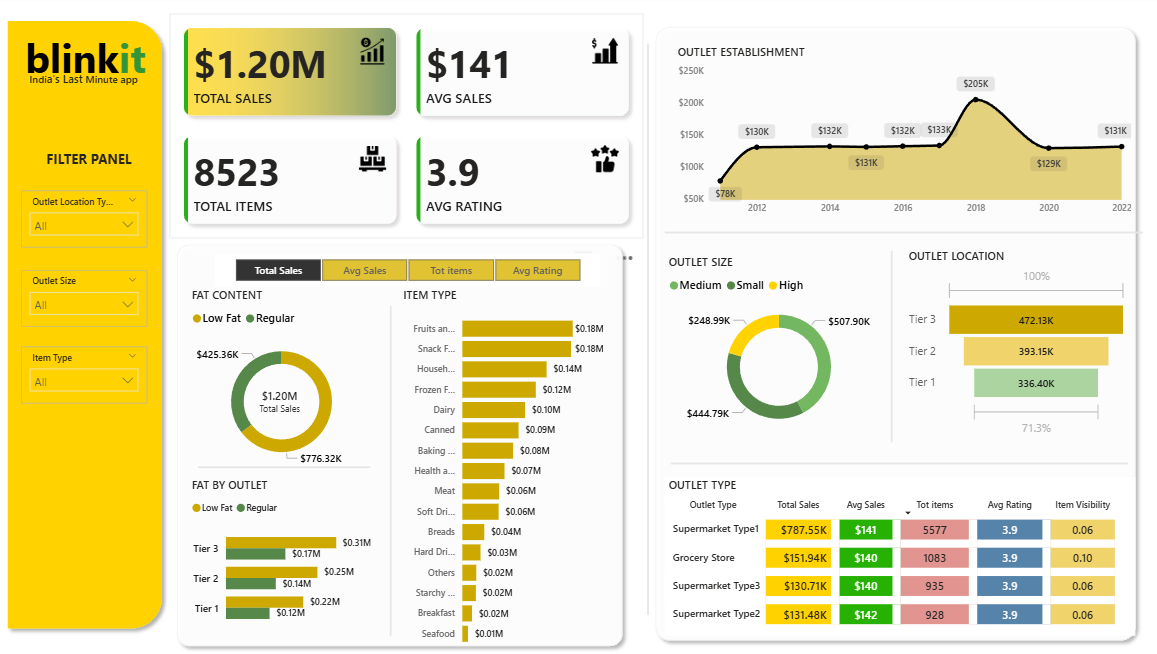

The page's visual inventory and layout, read from the dashboard file:
{"tool":"powerbi","page":{"name":"Page 1","canvas":[1400,800],"ordinal":0},"visuals":[{"type":"shape","box":[0,23.5,204.2,750],"z":0},{"type":"textbox","box":[25.3,38,166.3,99.4],"z":1000},{"type":"textbox","box":[5.7,86.8,190.6,30.2],"z":2000},{"type":"cardVisual","fields":{"Data":["BlinkIT Grocery Data.Total Sales","BlinkIT Grocery Data.Avg Sales","BlinkIT Grocery Data.Tot items","BlinkIT Grocery Data.Avg Rating"]},"box":[203.9,23.5,570.6,270.6],"z":3000},{"type":"shape","box":[203.8,292.5,554.7,501.9],"z":4000},{"type":"donutChart","title":"FAT CONTENT","fields":{"Y":["BlinkIT Grocery Data.Total Sales"],"Category":["BlinkIT Grocery Data.Item Fat Content"]},"box":[225.9,352.4,225.9,229.5],"z":5000},{"type":"slicer","fields":{"Values":["metrices.metrices"]},"box":[258.4,312.7,464.5,39.8],"z":6000},{"type":"cardVisual","fields":{"Data":["BlinkIT Grocery Data.Total Sales"]},"box":[300,455.4,74.1,70.5],"z":7000},{"type":"clusteredBarChart","title":"FAT BY OUTLET","fields":{"Y":["BlinkIT Grocery Data.Total Sales"],"Category":["BlinkIT Grocery Data.Outlet Location Type"],"Series":["BlinkIT Grocery Data.Item Fat Content"]},"box":[225.9,581.9,225.9,191.6],"z":8000},{"type":"shape","box":[238.6,551.2,207.8,38],"z":9000},{"type":"shape","box":[451.8,375.9,38,397.6],"z":10000},{"type":"barChart","title":"ITEM TYPE","fields":{"Y":["BlinkIT Grocery Data.Total Sales"],"Category":["BlinkIT Grocery Data.Item Type"]},"box":[480.7,352.4,251.2,442.8],"z":11000},{"type":"shape","box":[780.7,30.7,596.4,757.2],"z":12000},{"type":"lineChart","title":"OUTLET ESTABLISHMENT","fields":{"Category":["BlinkIT Grocery Data.Outlet Establishment Year"],"Y":["BlinkIT Grocery Data.Total Sales"]},"box":[811.5,59.6,556.6,215.1],"z":13000},{"type":"shape","box":[800.6,280.1,576.5,14.5],"z":14000},{"type":"donutChart","title":"OUTLET SIZE","fields":{"Y":["BlinkIT Grocery Data.Total Sales"],"Category":["BlinkIT Grocery Data.Outlet Size"]},"box":[800.6,312.7,275,225],"z":15000},{"type":"shape","box":[1055.4,309,38,231.3],"z":16000},{"type":"funnel","title":"OUTLET LOCATION","fields":{"Y":["Sum(BlinkIT Grocery Data.Sales)"],"Category":["BlinkIT Grocery Data.Outlet Location Type"]},"box":[1089.8,305.4,272.9,231.3],"z":17000},{"type":"shape","box":[807.9,560.3,551.2,10.8],"z":18000},{"type":"pivotTable","title":"OUTLET TYPE","fields":{"Rows":["BlinkIT Grocery Data.Outlet Type"],"Values":["BlinkIT Grocery Data.Total Sales","BlinkIT Grocery Data.Avg Sales","BlinkIT Grocery Data.Tot items","BlinkIT Grocery Data.Avg Rating","Avg(BlinkIT Grocery Data.Item Visibility)"]},"box":[800.6,581.9,567.5,191.6],"z":19000},{"type":"shape","box":[760.9,59.6,39.8,688.6],"z":20000},{"type":"slicer","fields":{"Values":["BlinkIT Grocery Data.Outlet Location Type"]},"box":[25.3,236.8,151.8,68.7],"z":21000},{"type":"slicer","fields":{"Values":["BlinkIT Grocery Data.Outlet Size"]},"box":[25.3,332.5,151.8,68.7],"z":22000},{"type":"slicer","fields":{"Values":["BlinkIT Grocery Data.Item Type"]},"box":[25.3,424.7,151.8,68.7],"z":23000},{"type":"textbox","box":[38,182.5,139.2,38],"z":24000}]}

Visuals, with their boxes in screenshot pixels (x1, y1, x2, y2), scaled from the page's 1400x800 canvas onto the 1157x654 screenshot:
shape: 0,19,169,632
textbox: 21,31,158,112
textbox: 5,71,162,96
cardVisual - BlinkIT Grocery Data.Total Sales x BlinkIT Grocery Data.Avg Sales: 169,19,640,240
shape: 168,239,627,649
"FAT CONTENT" donutChart: 187,288,373,476
slicer - metrices.metrices: 214,256,597,288
cardVisual - BlinkIT Grocery Data.Total Sales: 248,372,309,430
"FAT BY OUTLET" clusteredBarChart: 187,476,373,632
shape: 197,451,369,482
shape: 373,307,405,632
"ITEM TYPE" barChart: 397,288,605,650
shape: 645,25,1138,644
"OUTLET ESTABLISHMENT" lineChart: 671,49,1131,225
shape: 662,229,1138,241
"OUTLET SIZE" donutChart: 662,256,889,440
shape: 872,253,904,442
"OUTLET LOCATION" funnel: 901,250,1126,439
shape: 668,458,1123,467
"OUTLET TYPE" pivotTable: 662,476,1131,632
shape: 629,49,662,612
slicer - BlinkIT Grocery Data.Outlet Location Type: 21,194,146,250
slicer - BlinkIT Grocery Data.Outlet Size: 21,272,146,328
slicer - BlinkIT Grocery Data.Item Type: 21,347,146,403
textbox: 31,149,146,180
